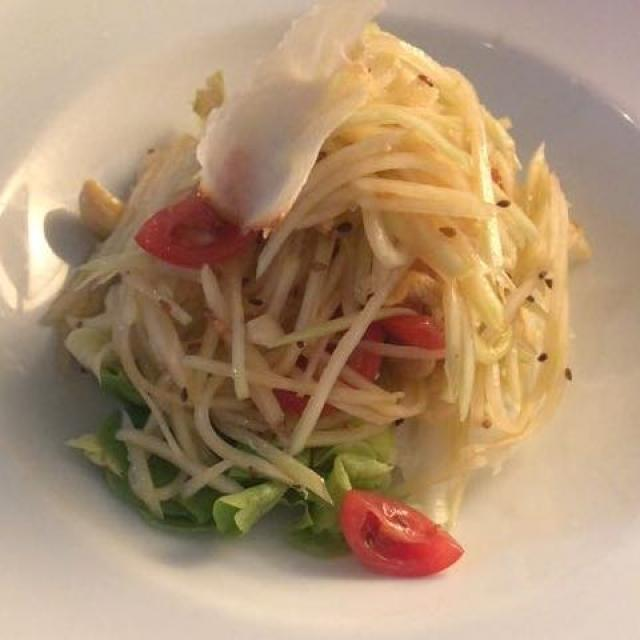salad: (68, 13, 573, 579)
